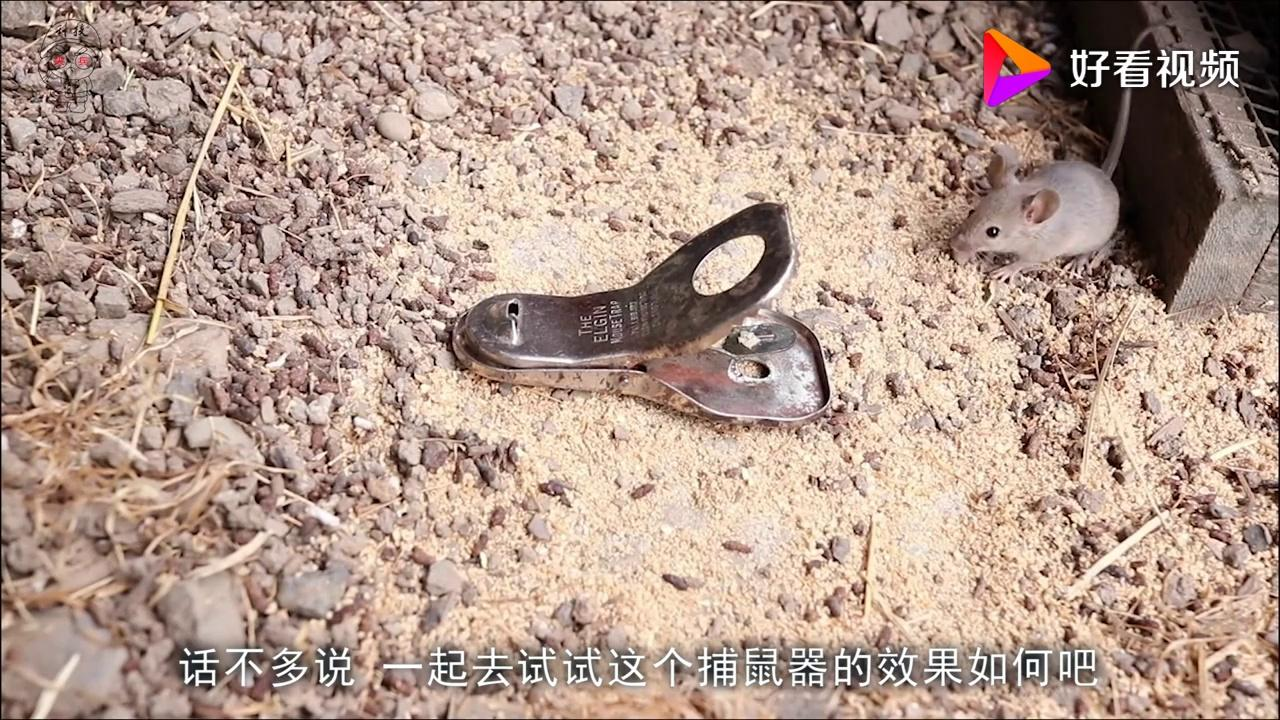rat: (939, 98, 1158, 283)
